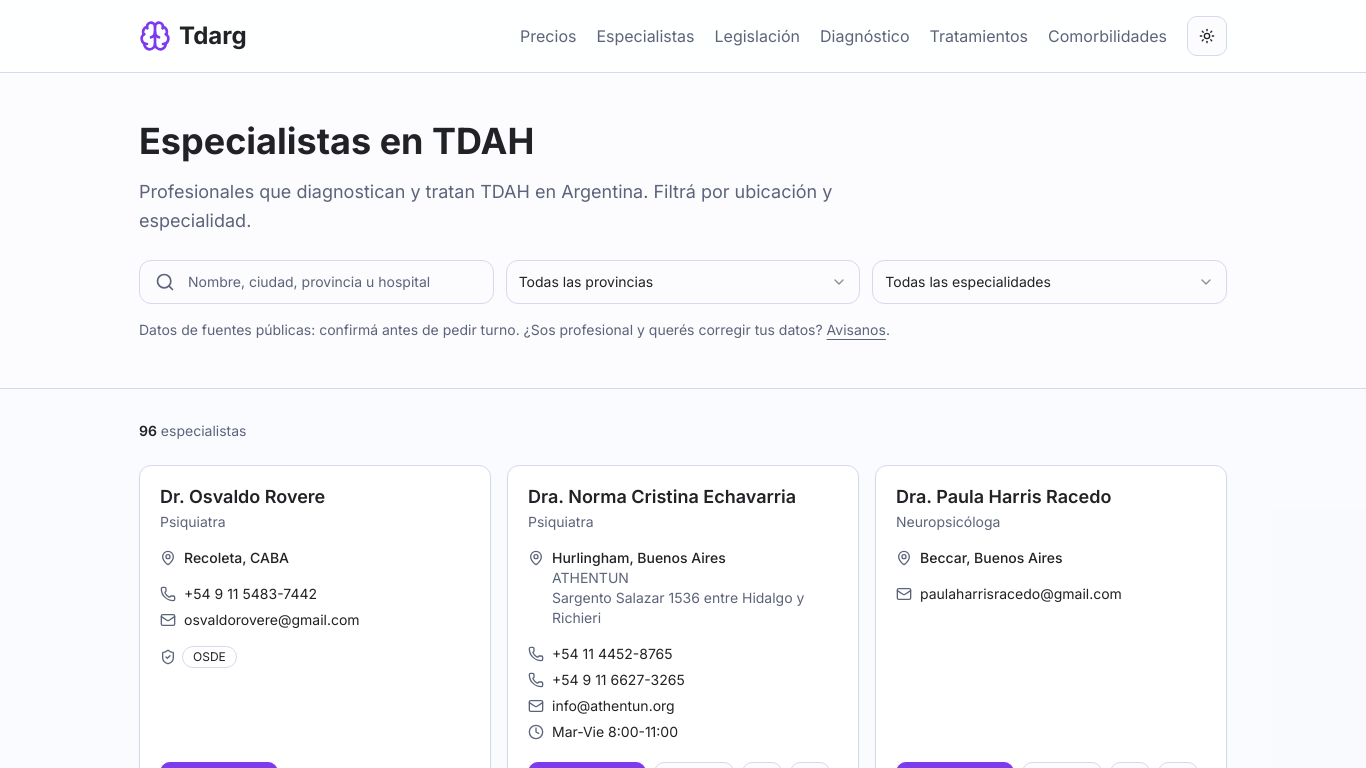
Test: SpecialistsPage › finds specialists without a known province
This screenshot has width=1366, height=768.
Click the dropdown labelled "provincia" at (586, 281), box [506,260,860,304]
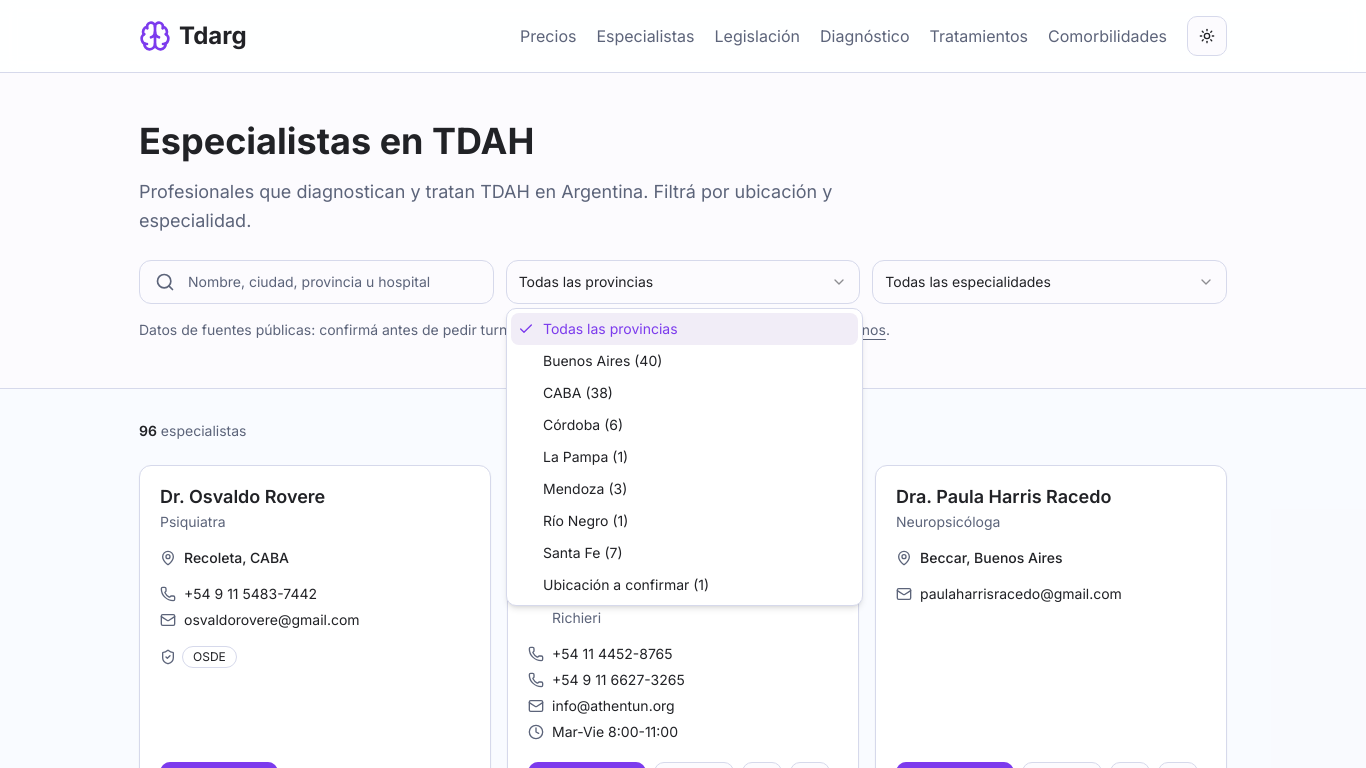
Click the option "Ubicación a confirmar (1)" at (626, 584), box [543,576,709,593]
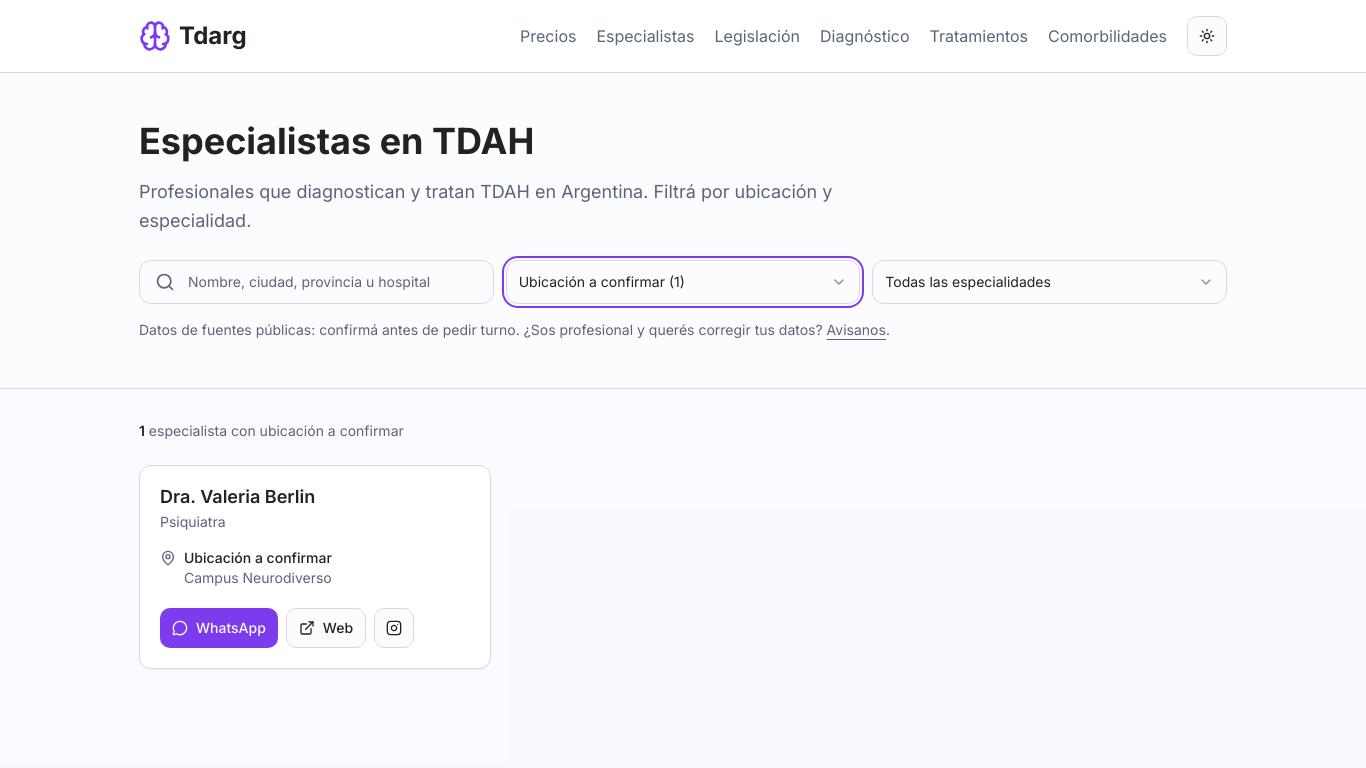
Expected: the heading "Dra. Valeria Berlin" is shown, [160,486,315,506]
Result: the element showing "1 especialista con ubicación a confirmar" is shown at [139,422,404,438]
